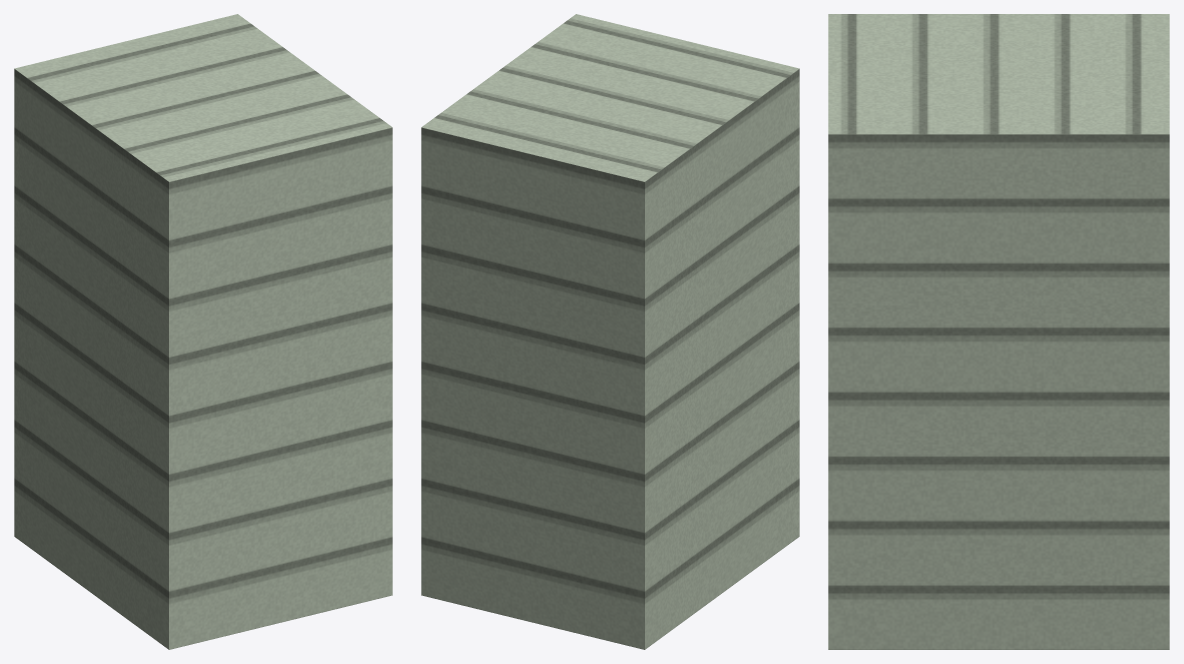
File: hand_truck_dolly_pallet_jack.glb
The picture shows the model from 3 angles, left to right: view 1: azimuth 30°, elevation 25°; view 2: azimuth 150°, elevation 25°; view 3: azimuth 270°, elevation 25°; orthographic projection. The views are drawn at different scales.
Visible parts, largest first — view 1: hand_truck_dolly_pallet_jack-col; view 2: hand_truck_dolly_pallet_jack-col; view 3: hand_truck_dolly_pallet_jack-col.
Boxes of the visible parts, box(x1,y1,x2,y2) form: hand_truck_dolly_pallet_jack-col: box(14, 14, 392, 649); hand_truck_dolly_pallet_jack-col: box(421, 14, 799, 649); hand_truck_dolly_pallet_jack-col: box(828, 14, 1169, 649).
Size of the model in its own units: 0.5 by 1 by 0.6.
1 material, 1 textured.
